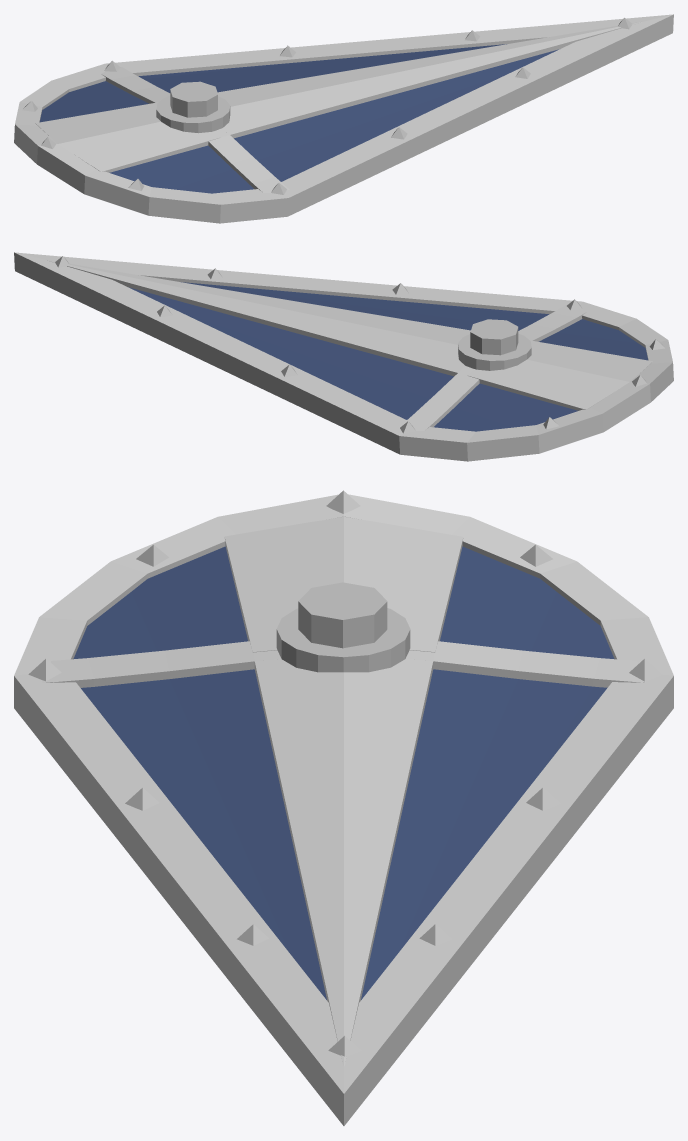
Rendered from Shield_3_c_bl.fbx.
3 views of the same model, one above another, from view 1: azimuth 30°, elevation 25°; view 2: azimuth 150°, elevation 25°; view 3: azimuth 270°, elevation 25° (orthographic). The views are drawn at different scales.
Visible parts, largest first — view 1: Circle.349, Circle.350, Circle.345, Circle.346, Circle.347, Circle.348; view 2: Circle.349, Circle.350, Circle.345, Circle.346, Circle.347, Circle.348; view 3: Circle.349, Circle.350, Circle.345, Circle.346, Circle.347, Circle.348.
Boxes of the visible parts, x1,y1,x2,y2 form: Circle.349: (14, 14, 673, 223); Circle.350: (40, 44, 558, 193); Circle.345: (35, 21, 642, 172); Circle.346: (101, 67, 289, 192); Circle.347: (170, 81, 217, 117); Circle.348: (156, 96, 230, 133); Circle.349: (14, 252, 673, 461); Circle.350: (129, 282, 647, 431); Circle.345: (45, 259, 652, 410); Circle.346: (398, 305, 586, 430); Circle.347: (470, 319, 518, 355); Circle.348: (458, 333, 531, 370); Circle.349: (14, 494, 673, 1125); Circle.350: (73, 546, 614, 999); Circle.345: (224, 516, 463, 1065); Circle.346: (42, 641, 645, 687); Circle.347: (298, 582, 387, 648); Circle.348: (276, 608, 410, 672).
Size of the model in its own units: 148 by 19.83 by 74.
